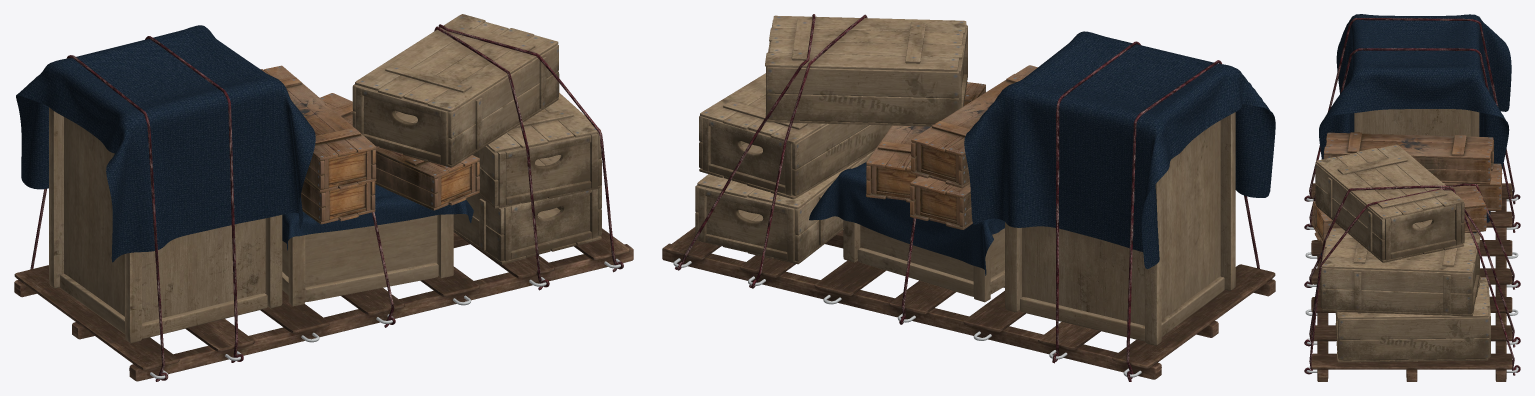
The model's file is cargo-pallet.glb.
The picture shows the model from 3 angles, left to right: view 1: azimuth 30°, elevation 25°; view 2: azimuth 150°, elevation 25°; view 3: azimuth 270°, elevation 25°; orthographic projection. The views are drawn at different scales.
Parts seen in each view (by area): view 1: CargoPallet; view 2: CargoPallet; view 3: CargoPallet.
Part boxes in pixels (left/top/right/bottom): CargoPallet: left=14, top=14, right=633, bottom=381; CargoPallet: left=662, top=14, right=1275, bottom=381; CargoPallet: left=1304, top=14, right=1520, bottom=381.
Size of the model in its own units: 2.4 by 1.11 by 1.14.
Materials: 8 (7 with a texture image).
